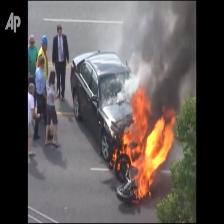fire: (108, 65, 177, 205)
smoke: (125, 3, 194, 70)
